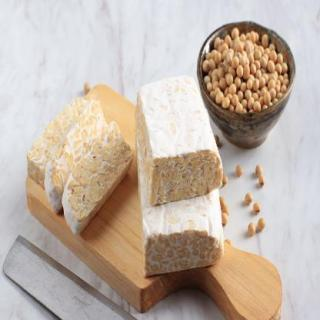Tempe: (134, 72, 226, 277), (24, 96, 136, 236)
